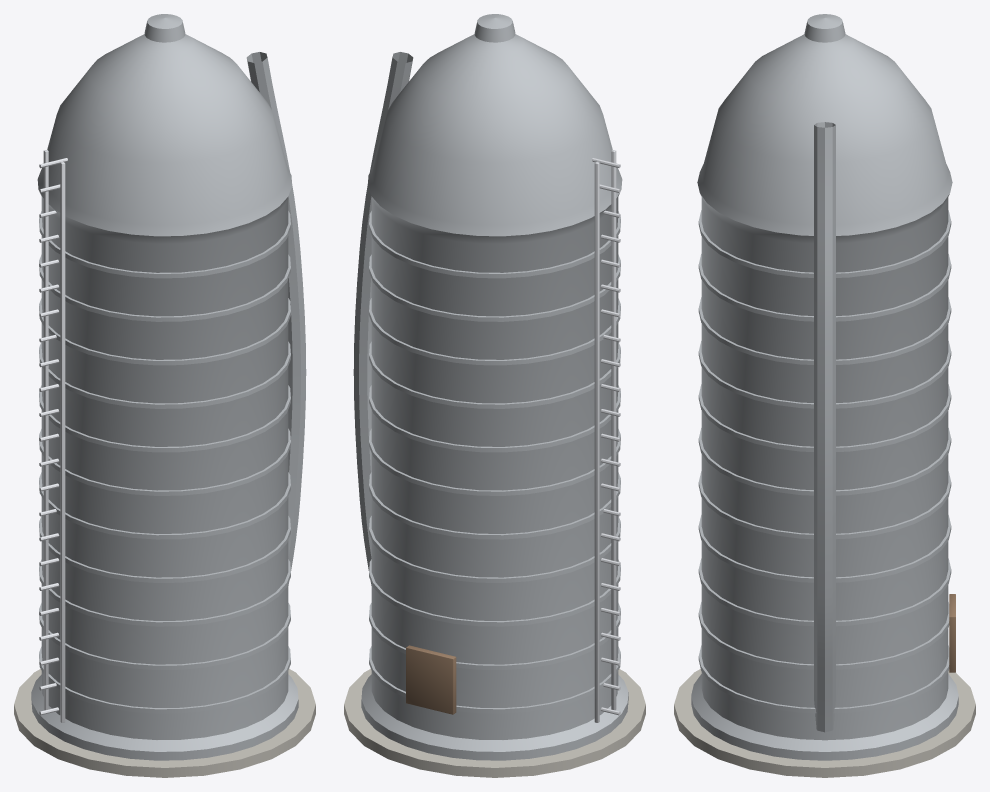
Rendered from th38_silo.glb.
3 views of the same model, side by side, from view 1: azimuth 30°, elevation 25°; view 2: azimuth 150°, elevation 25°; view 3: azimuth 270°, elevation 25° (orthographic).
Parts seen in each view (by area): view 1: Rumpf, Fundament, Fuellrohr, Cube, Cube.001, Cylinder.010, Cylinder.006, Cylinder.007, Cylinder.002, Cylinder.008, Cylinder.003, Cylinder.004 (+5 smaller); view 2: Rumpf, Fundament, Fuellrohr, Cube.001, Cube.002, Cube, Cylinder.010, Cylinder.006, Cylinder.007, Cylinder.002, Cylinder.008, Cylinder.003 (+6 smaller); view 3: Rumpf, Fuellrohr, Fundament, Cylinder, Cylinder.005, Cylinder.003, Cylinder.002, Cylinder.007, Cylinder.004, Cylinder.009, Cylinder.006, Cylinder.008 (+4 smaller).
Part boxes in pixels (x1,y1,x2,y2): Rumpf: [31, 34, 298, 760]; Fundament: [14, 669, 315, 777]; Fuellrohr: [246, 52, 306, 585]; Cube: [60, 162, 65, 722]; Cube.001: [43, 150, 48, 710]; Cylinder.010: [39, 211, 290, 278]; Cylinder.006: [39, 385, 290, 452]; Cylinder.007: [39, 341, 290, 408]; Cylinder.002: [39, 559, 290, 626]; Cylinder.008: [39, 298, 290, 365]; Cylinder.003: [39, 516, 290, 582]; Cylinder.004: [39, 472, 290, 539]; Rumpf: [361, 34, 628, 760]; Fundament: [344, 669, 645, 777]; Fuellrohr: [353, 52, 413, 585]; Cube.001: [594, 162, 599, 722]; Cube.002: [406, 645, 456, 714]; Cube: [611, 150, 616, 710]; Cylinder.010: [369, 211, 620, 278]; Cylinder.006: [369, 385, 620, 452]; Cylinder.007: [369, 341, 620, 408]; Cylinder.002: [369, 559, 620, 626]; Cylinder.008: [369, 298, 620, 365]; Cylinder.003: [369, 516, 620, 582]; Rumpf: [691, 34, 958, 760]; Fuellrohr: [814, 122, 835, 732]; Fundament: [674, 669, 975, 777]; Cylinder: [698, 645, 949, 713]; Cylinder.005: [698, 428, 951, 495]; Cylinder.003: [698, 515, 951, 582]; Cylinder.002: [698, 558, 951, 626]; Cylinder.007: [698, 341, 951, 408]; Cylinder.004: [698, 471, 951, 539]; Cylinder.009: [698, 254, 951, 321]; Cylinder.006: [698, 384, 951, 451]; Cylinder.008: [698, 297, 951, 364].
Size of the model in its own units: 4.56 by 11.2 by 4.4.
